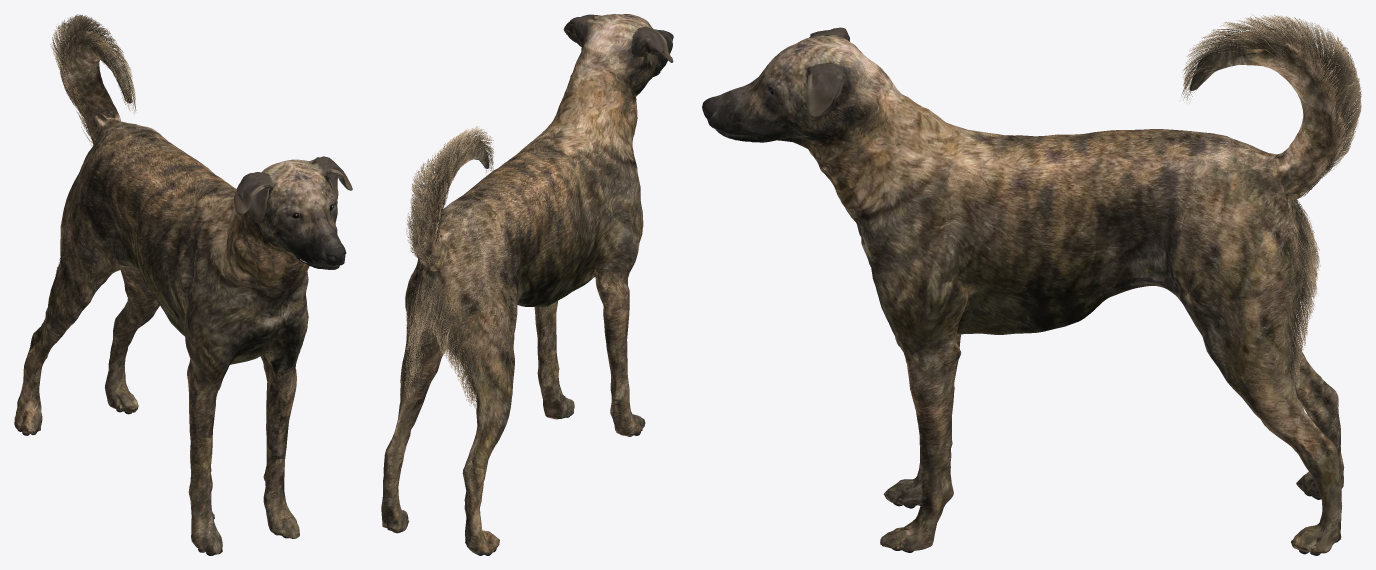
Rendered from cursinu.glb.
The picture shows the model from 3 angles, left to right: view 1: azimuth 30°, elevation 25°; view 2: azimuth 150°, elevation 25°; view 3: azimuth 270°, elevation 25°; orthographic projection. The views are drawn at different scales.
Parts seen in each view (by area): view 1: bodypart_membre_ante, bodypart_membre_poste, bodypart_reste_robe, bodypart_ligne-dessus, bodypart_fouet, bodypart_poitrine, bodypart_cou, bodypart_face, bodypart_crane__2, bodypart_crane__1, ear_left_2, ear_left_1 (+1 smaller); view 2: bodypart_membre_poste, bodypart_membre_ante, bodypart_ligne-dessus, bodypart_reste_robe, bodypart_fouet, bodypart_poitrine, bodypart_cou, bodypart_crane__2, bodypart_crane__1, ear_left_2, bodypart_ligne-dessous; view 3: bodypart_membre_poste, bodypart_membre_ante, bodypart_reste_robe, bodypart_poitrine, bodypart_fouet, bodypart_ligne-dessus, bodypart_cou, bodypart_face, bodypart_crane__2, bodypart_crane__1, ear_right_2, bodypart_ligne-dessous (+1 smaller).
Part boxes in pixels (x1,y1,x2,y2): bodypart_membre_ante: [179, 228, 308, 555]; bodypart_membre_poste: [14, 147, 159, 435]; bodypart_reste_robe: [90, 132, 308, 364]; bodypart_ligne-dessus: [95, 119, 236, 221]; bodypart_fouet: [50, 14, 136, 145]; bodypart_poitrine: [135, 213, 255, 329]; bodypart_cou: [227, 203, 309, 294]; bodypart_face: [280, 196, 346, 269]; bodypart_crane__2: [260, 159, 337, 249]; bodypart_crane__1: [262, 159, 337, 251]; ear_left_2: [234, 172, 274, 214]; ear_left_1: [238, 172, 270, 223]; bodypart_membre_poste: [381, 232, 521, 555]; bodypart_membre_ante: [534, 146, 645, 436]; bodypart_ligne-dessus: [438, 106, 596, 245]; bodypart_reste_robe: [440, 35, 649, 290]; bodypart_fouet: [406, 126, 494, 272]; bodypart_poitrine: [549, 171, 610, 291]; bodypart_cou: [557, 53, 639, 145]; bodypart_crane__2: [585, 14, 657, 87]; bodypart_crane__1: [580, 14, 657, 86]; ear_left_2: [631, 27, 673, 62]; bodypart_ligne-dessous: [517, 287, 551, 306]; bodypart_membre_poste: [1170, 185, 1344, 555]; bodypart_membre_ante: [868, 169, 975, 552]; bodypart_reste_robe: [804, 60, 1290, 334]; bodypart_poitrine: [957, 172, 1095, 331]; bodypart_fouet: [1181, 14, 1361, 200]; bodypart_ligne-dessus: [934, 114, 1276, 177]; bodypart_cou: [808, 69, 937, 209]; bodypart_face: [702, 66, 782, 142]; bodypart_crane__2: [764, 35, 870, 146]; bodypart_crane__1: [767, 36, 870, 147]; ear_right_2: [806, 63, 851, 118]; bodypart_ligne-dessous: [1064, 268, 1174, 326].
Size of the model in its own units: 22.06 by 67.86 by 79.84.
6 materials, 5 textured.
